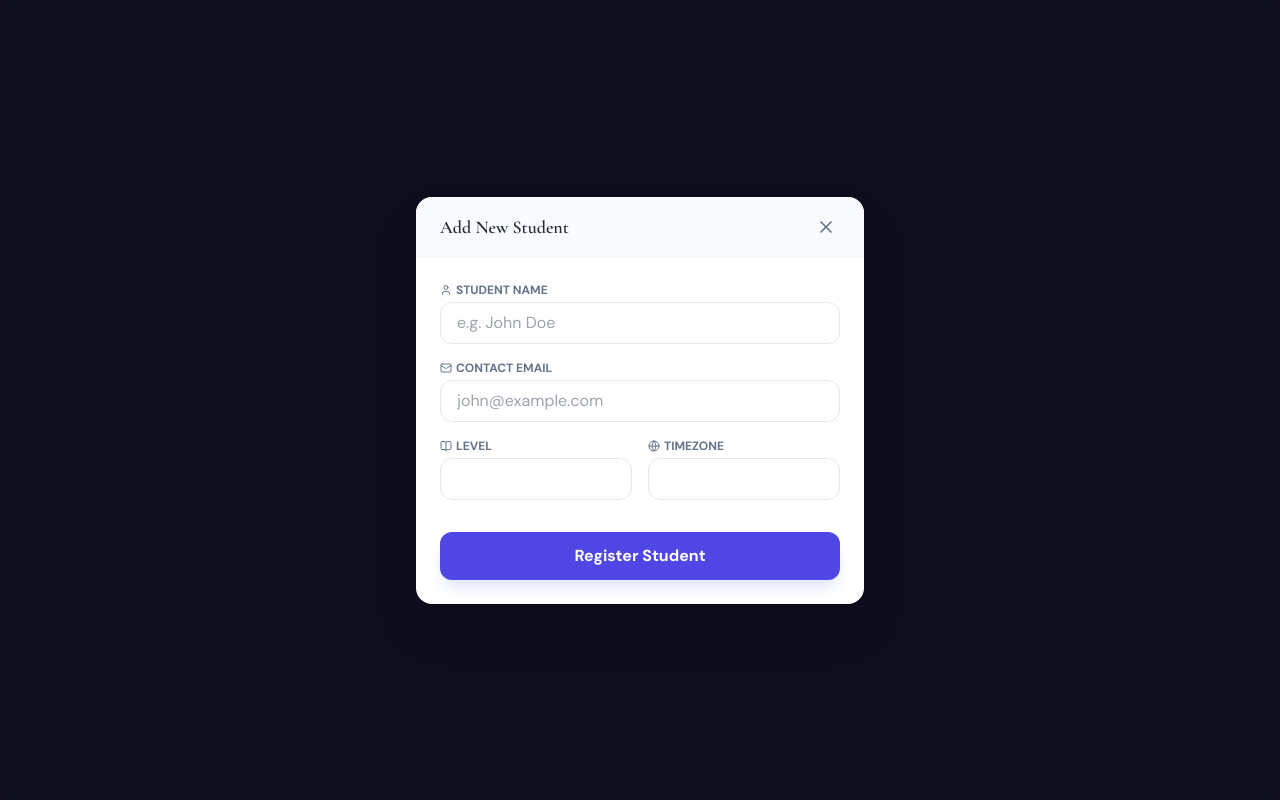
it: AddStudentModal › shows error message on API failure
In the field with placeholder "e.g. John Doe": (640, 322) [440,302,840,344], type "John Doe"
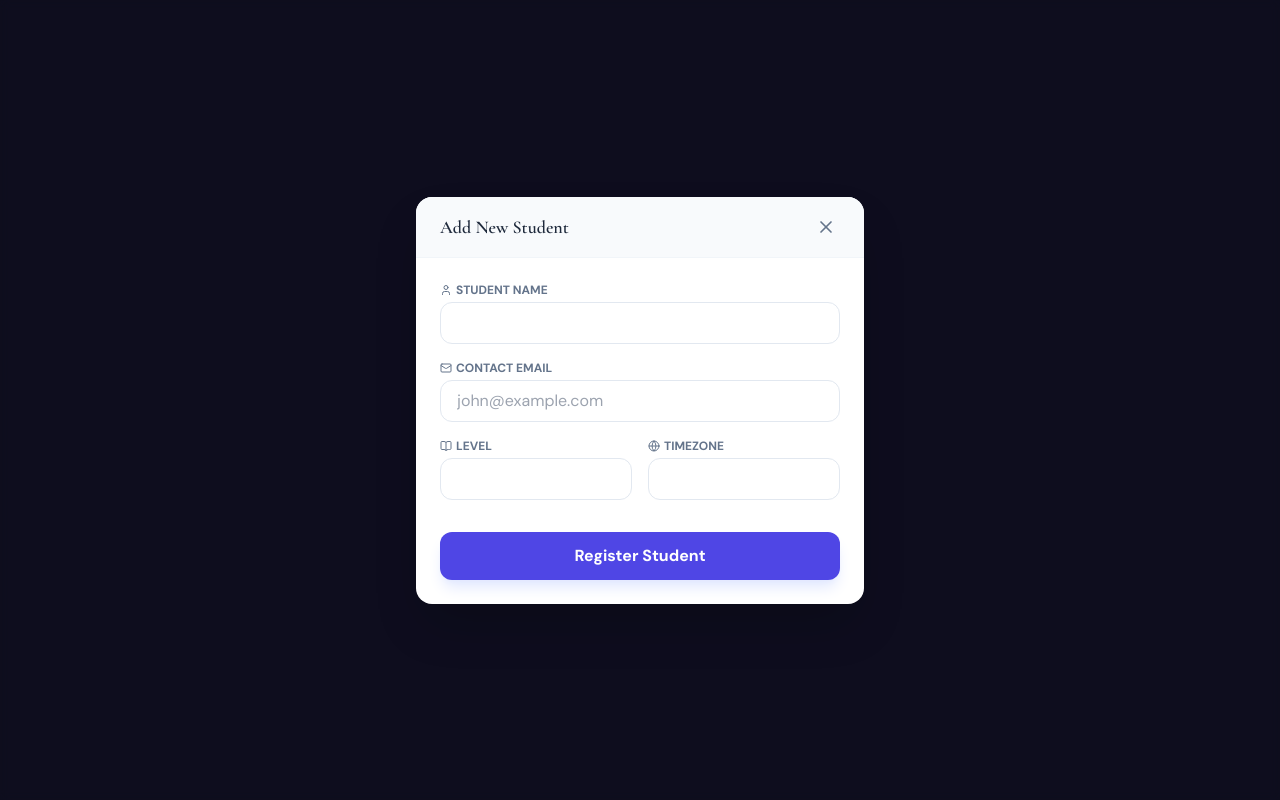
Click the button "Register Student": (640, 556) [440,532,840,580]
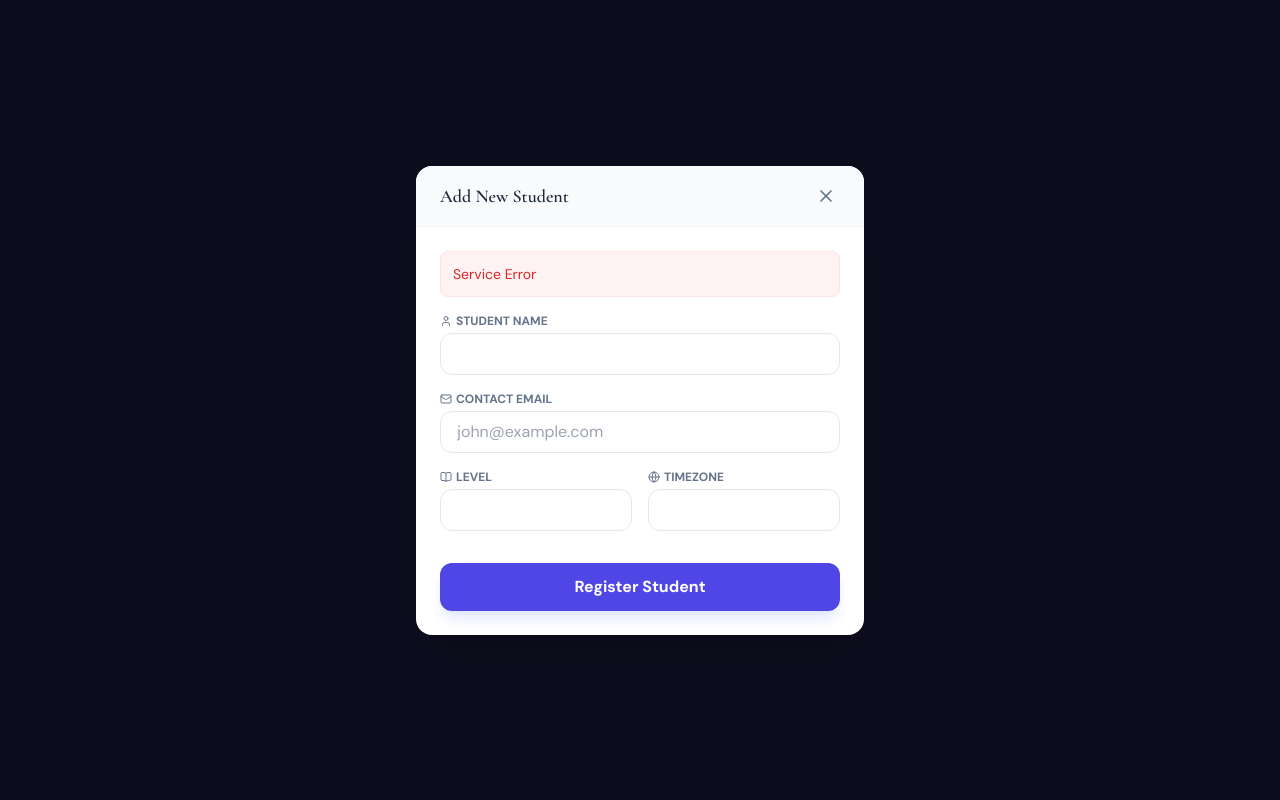
Check: the text "Service Error" is shown, box [440,250,840,296]
